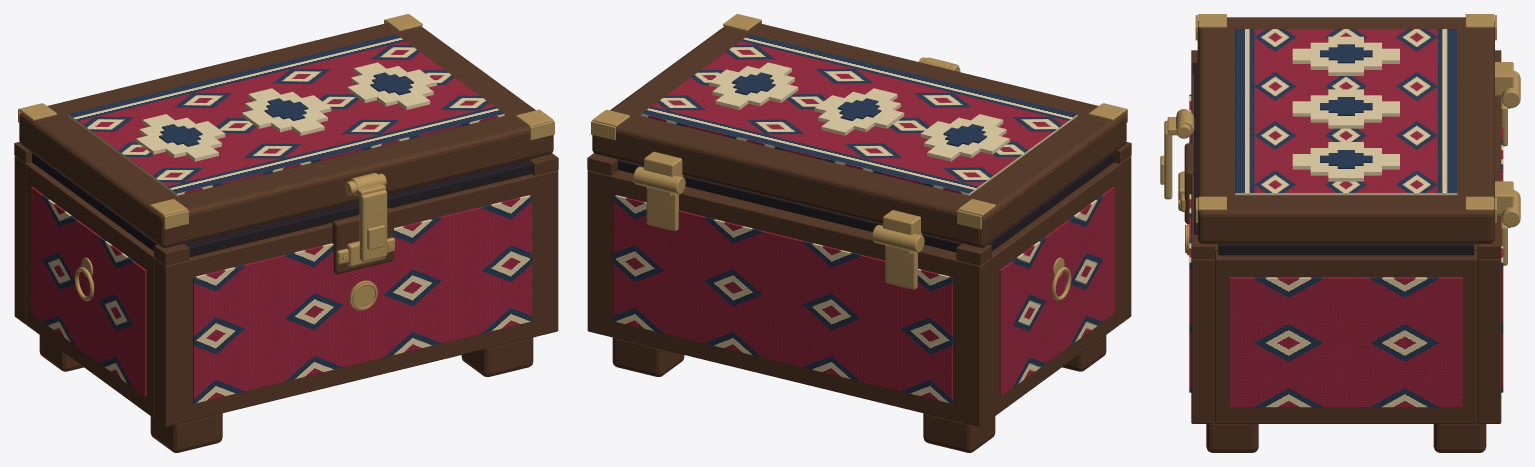
File: serbia.glb
3 views of the same model, side by side, from view 1: azimuth 30°, elevation 25°; view 2: azimuth 150°, elevation 25°; view 3: azimuth 270°, elevation 25° (orthographic). The views are drawn at different scales.
Parts seen in each view (by area): view 1: Textile / front rear, Lid / polished slab, Textile / lid, Walnut / front rear, Textile / side, Walnut / side, Dark seam / long, Pirot relief / ivory 1, Pirot relief / ivory 2, Pirot relief / ivory 0, Walnut / front rear.001, Walnut foot (+10 smaller); view 2: Textile / front rear.001, Lid / polished slab, Textile / lid, Walnut / front rear.001, Textile / side, Walnut / side, Dark seam / long.001, Pirot relief / ivory 1, Pirot relief / ivory 2, Pirot relief / ivory 0, Walnut / front rear, Walnut foot.001 (+13 smaller); view 3: Textile / side.001, Lid / polished slab, Textile / lid, Walnut / side.001, Walnut / front rear.001, Walnut / front rear, Dark seam / side.001, Pirot relief / ivory 0, Pirot relief / ivory 1, Pirot relief / ivory 2, Walnut foot.003, Walnut foot.002 (+18 smaller).
Part boxes in pixels (x1,y1,x2,y2): Textile / front rear: [193, 195, 532, 403]; Lid / polished slab: [19, 23, 553, 247]; Textile / lid: [68, 34, 504, 195]; Walnut / front rear: [154, 170, 558, 426]; Textile / side: [31, 187, 146, 396]; Walnut / side: [26, 162, 154, 417]; Dark seam / long: [184, 160, 533, 256]; Pirot relief / ivory 1: [241, 88, 331, 135]; Pirot relief / ivory 2: [347, 62, 436, 109]; Pirot relief / ivory 0: [136, 114, 225, 161]; Walnut / front rear.001: [14, 156, 31, 324]; Walnut foot: [150, 413, 222, 452]; Textile / front rear.001: [613, 195, 952, 403]; Lid / polished slab: [592, 23, 1126, 247]; Textile / lid: [641, 34, 1077, 195]; Walnut / front rear.001: [587, 170, 991, 426]; Textile / side: [999, 187, 1114, 396]; Walnut / side: [991, 162, 1119, 417]; Dark seam / long.001: [617, 160, 961, 252]; Pirot relief / ivory 1: [814, 88, 904, 135]; Pirot relief / ivory 2: [709, 62, 798, 109]; Pirot relief / ivory 0: [920, 114, 1009, 161]; Walnut / front rear: [1114, 156, 1131, 324]; Walnut foot.001: [923, 413, 995, 452]; Textile / side.001: [1229, 277, 1462, 407]; Lid / polished slab: [1197, 17, 1494, 243]; Textile / lid: [1235, 29, 1457, 195]; Walnut / side.001: [1215, 251, 1477, 423]; Walnut / front rear.001: [1477, 96, 1501, 423]; Walnut / front rear: [1191, 74, 1214, 423]; Dark seam / side.001: [1218, 244, 1474, 255]; Pirot relief / ivory 0: [1292, 36, 1399, 75]; Pirot relief / ivory 1: [1292, 89, 1399, 128]; Pirot relief / ivory 2: [1292, 142, 1399, 181]; Walnut foot.003: [1433, 423, 1486, 452]; Walnut foot.002: [1206, 423, 1258, 452].
Size of the model in its own units: 3.81 by 2.29 by 2.88.
Materials: 6 (1 with a texture image).
